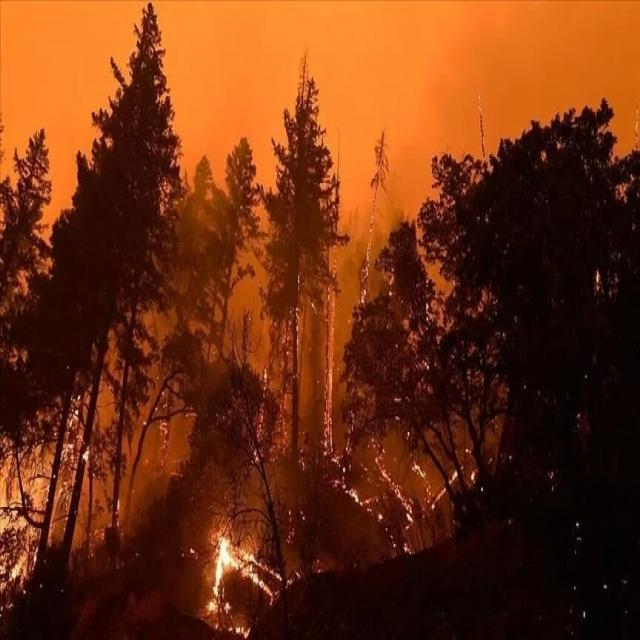tree: (64, 7, 184, 566), (464, 102, 640, 482), (339, 144, 521, 506), (256, 78, 344, 456), (188, 135, 258, 365), (38, 176, 78, 562), (1, 132, 51, 304)
